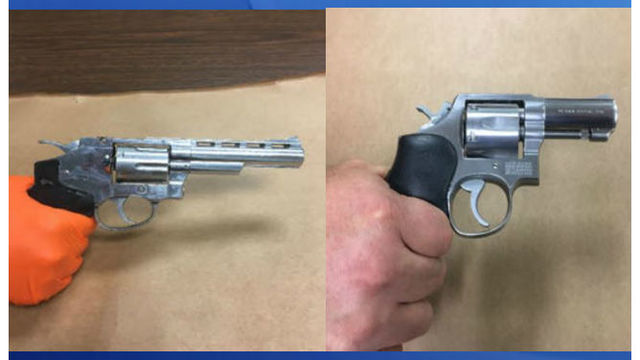pistol: (329, 64, 627, 315), (11, 90, 311, 310)
